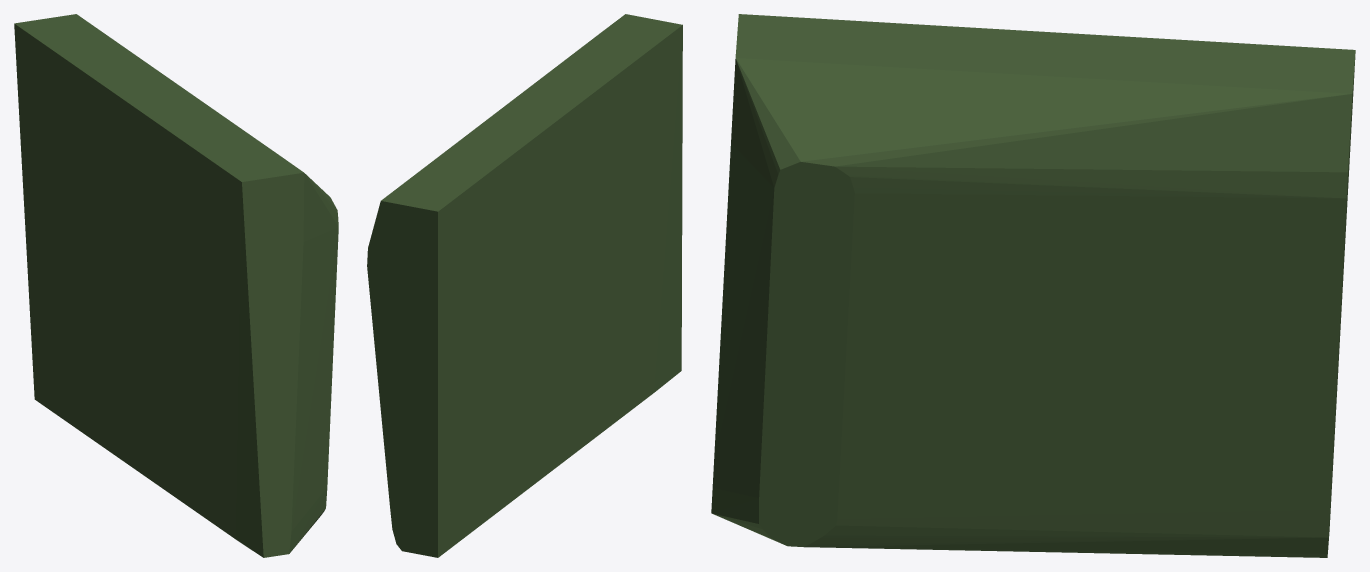
The model's file is converted_Downdraft_Assy_collision_49_486039ff.obj.
3 renders of one model, left to right at view 1: azimuth 30°, elevation 25°; view 2: azimuth 150°, elevation 25°; view 3: azimuth 270°, elevation 25°, orthographic. The views are drawn at different scales.
Size of the model in its own units: 0.0778 by 0.2591 by 0.2996.
